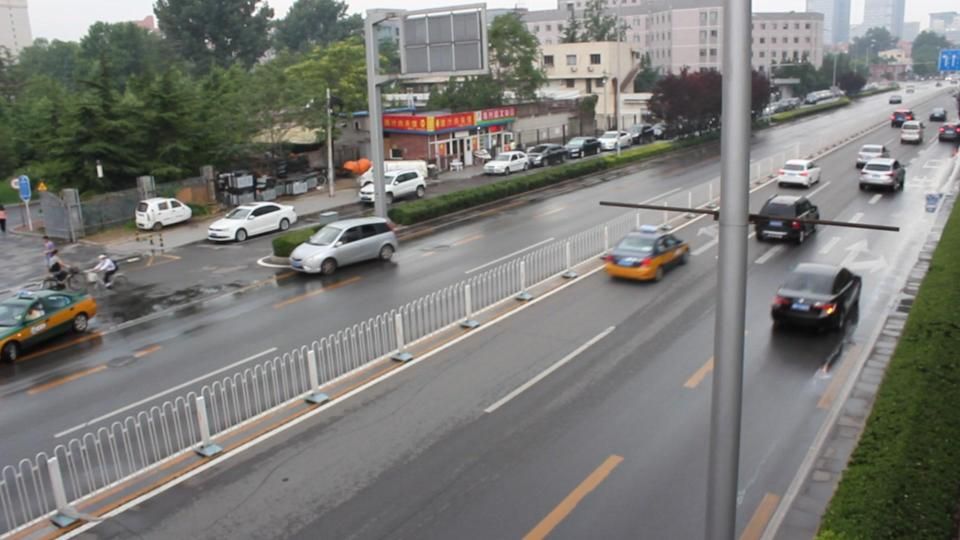car: (1, 288, 96, 361), (766, 262, 861, 329), (601, 223, 692, 284), (205, 201, 298, 244), (774, 156, 821, 188), (855, 142, 889, 166)
microbus: (287, 216, 396, 276)
suv: (755, 194, 821, 245), (356, 170, 426, 204), (856, 157, 906, 191)
truck: (359, 158, 430, 190)
